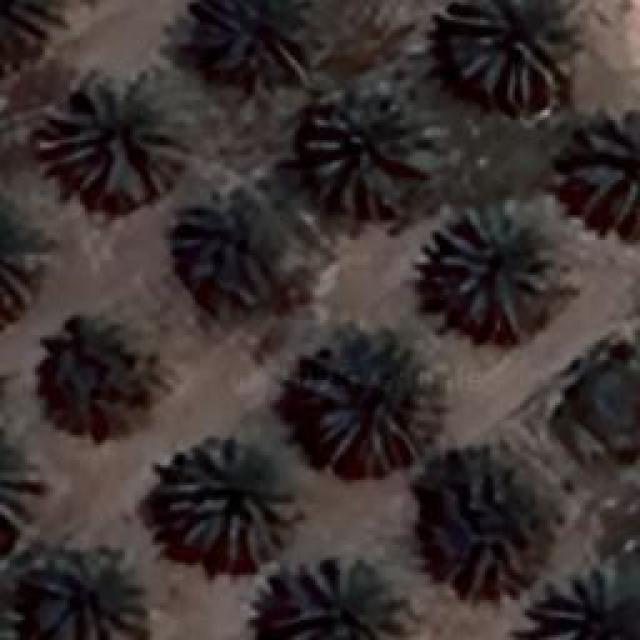PalmTree: (34, 75, 188, 203), (158, 438, 302, 570), (302, 87, 448, 215), (308, 347, 442, 475), (434, 202, 548, 338), (172, 178, 306, 292), (265, 552, 413, 638), (442, 0, 562, 105), (44, 315, 158, 425), (435, 467, 530, 595), (10, 544, 136, 640), (190, 0, 304, 80), (568, 108, 638, 228), (526, 563, 636, 636), (0, 190, 48, 312), (0, 430, 45, 528), (0, 0, 67, 56)
